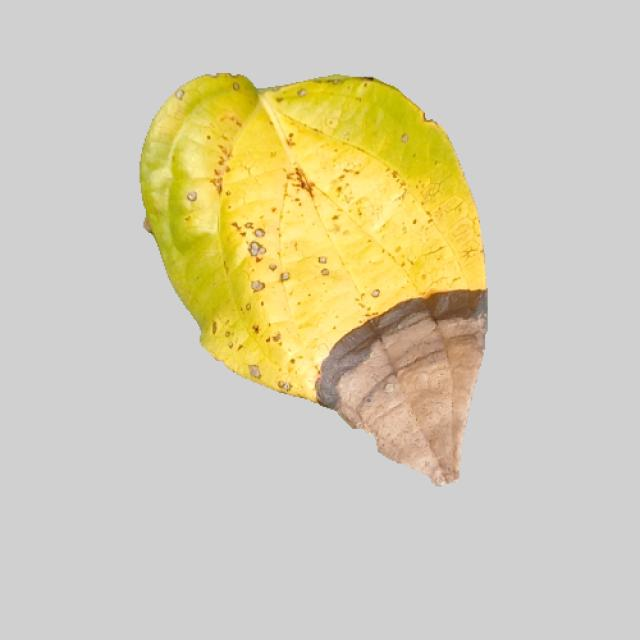leaf-blight: (122, 72, 490, 489)
